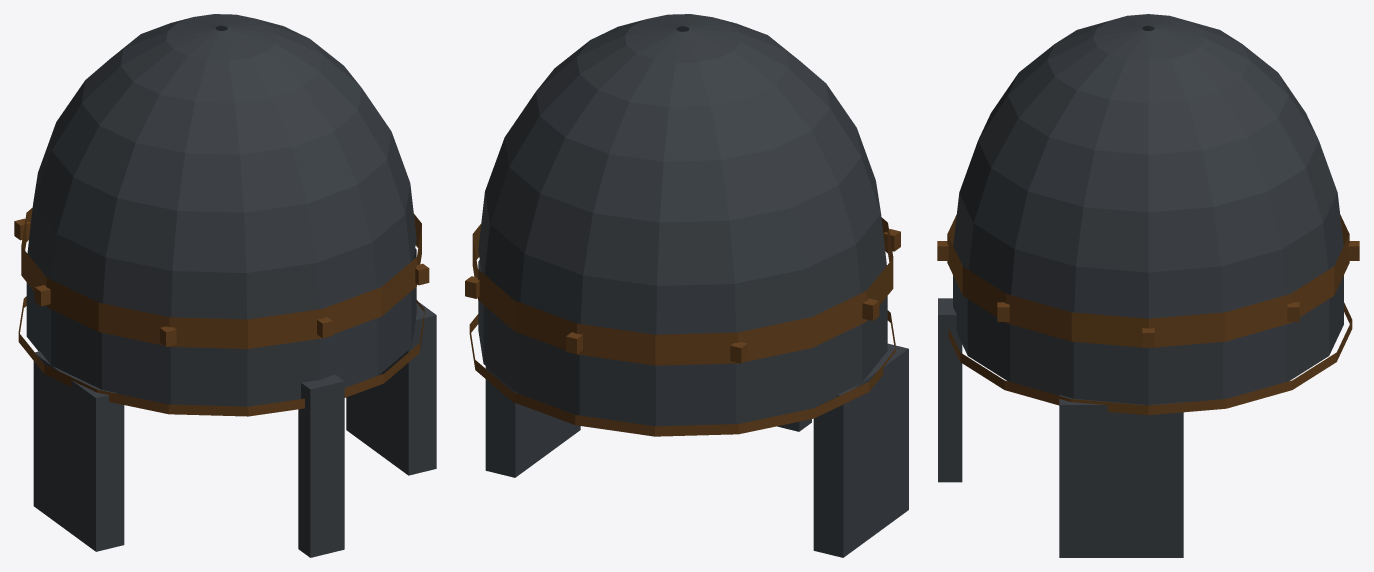
File: helmet_LOD1.obj
3 renders of one model, left to right at view 1: azimuth 30°, elevation 25°; view 2: azimuth 150°, elevation 25°; view 3: azimuth 270°, elevation 25°, orthographic. The views are drawn at different scales.
Size of the model in its own units: 0.313 by 0.3654 by 0.313.
